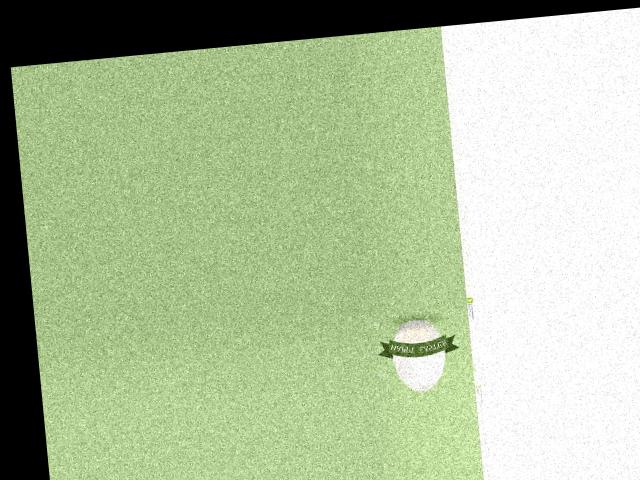egg: (390, 317, 449, 393)
